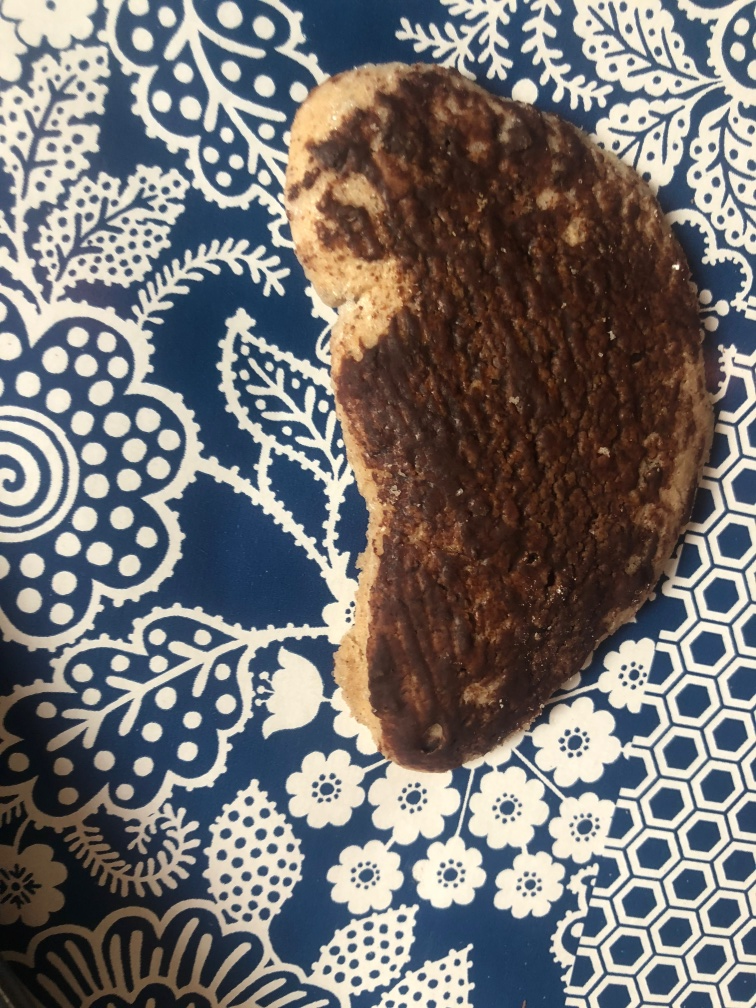weird #1: (276, 56, 716, 768)
